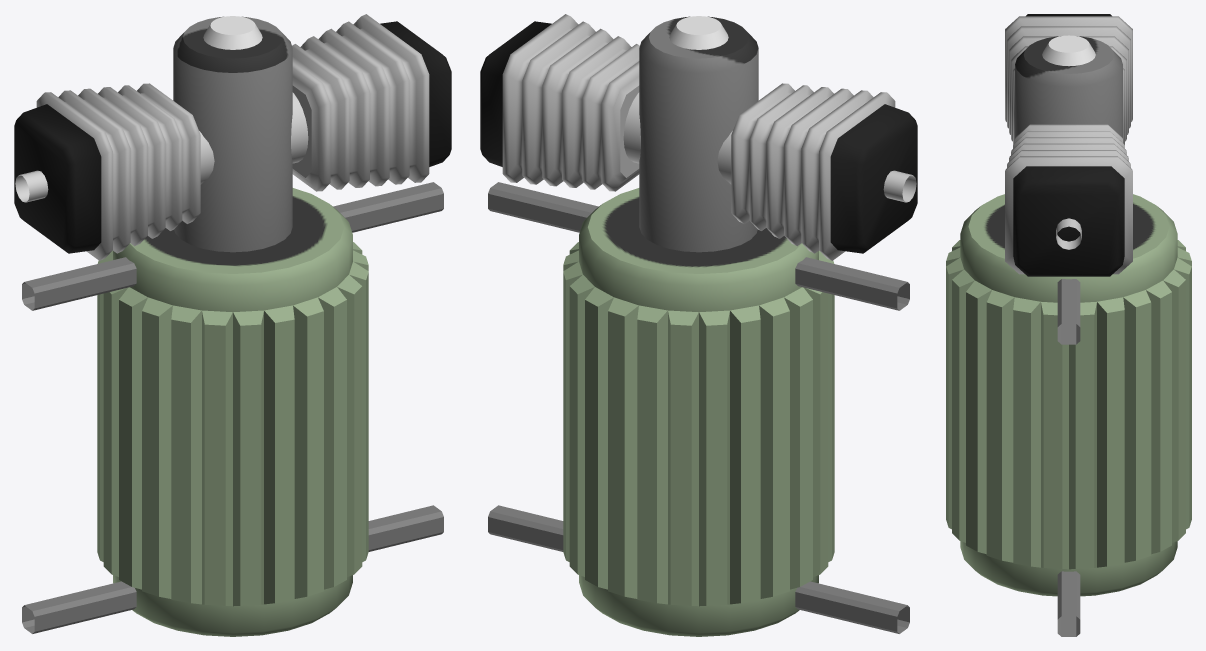
The model's file is compressor.fbx.
The picture shows the model from 3 angles, left to right: view 1: azimuth 30°, elevation 25°; view 2: azimuth 150°, elevation 25°; view 3: azimuth 270°, elevation 25°; orthographic projection. The views are drawn at different scales.
Visible parts, largest first — view 1: motor, right-pump, left-pump, fixing-rod_001, fixing-rod, cross-pipe, right-pipe; view 2: motor, right-pump, left-pump, fixing-rod_001, fixing-rod, cross-pipe, right-pipe; view 3: motor, left-pump, right-pump, fixing-rod_001, fixing-rod, left-pipe.
Part boxes in pixels (box(x1,y1,x2,y2)): motor: box(97, 16, 368, 636); right-pump: box(14, 83, 200, 260); left-pump: box(292, 14, 451, 191); fixing-rod_001: box(22, 182, 443, 310); fixing-rod: box(22, 505, 443, 633); cross-pipe: box(199, 92, 308, 184); right-pipe: box(15, 170, 48, 202); motor: box(563, 16, 834, 636); right-pump: box(731, 83, 917, 260); left-pump: box(480, 14, 639, 191); fixing-rod_001: box(488, 182, 909, 310); fixing-rod: box(488, 505, 909, 633); cross-pipe: box(623, 92, 732, 184); right-pipe: box(883, 170, 916, 202); motor: box(946, 35, 1191, 596); left-pump: box(1005, 124, 1132, 276); right-pump: box(1005, 14, 1132, 144); fixing-rod_001: box(1057, 279, 1080, 344); fixing-rod: box(1057, 571, 1080, 636); left-pipe: box(1056, 218, 1081, 249).
Bounding box in the file's own units: 0.691 × 0.8849 × 0.3861.
Materials: 2 (1 with a texture image).
